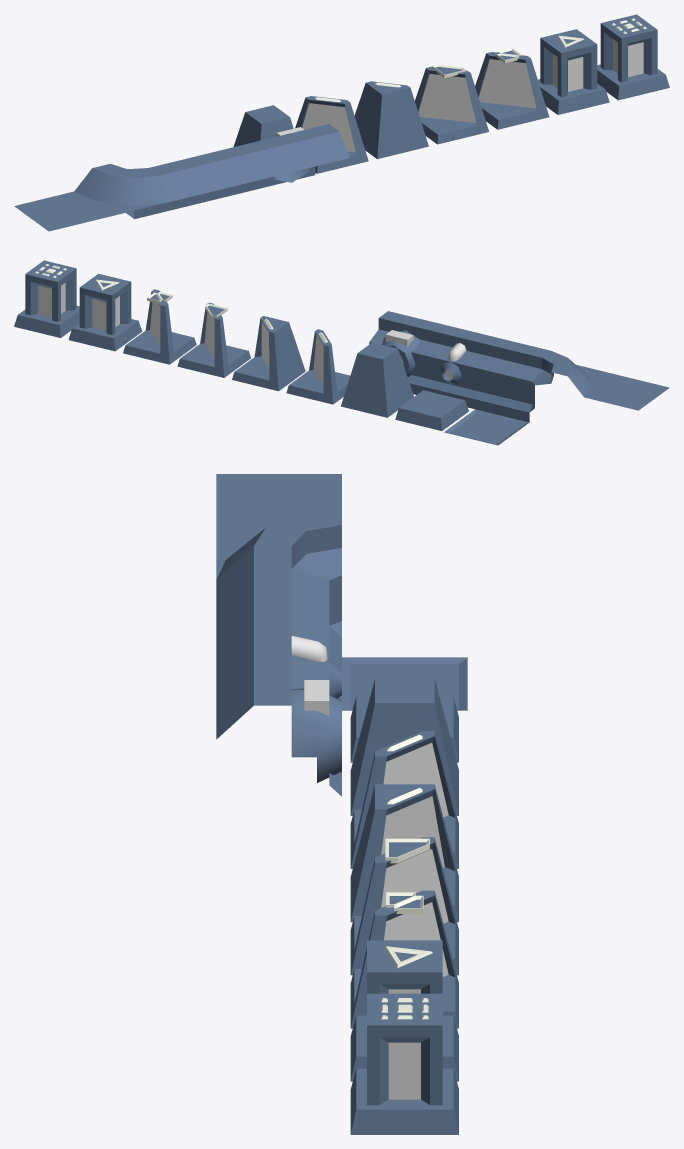
File: Tiles.fbx
3 renders of one model, top to bottom at view 1: azimuth 30°, elevation 25°; view 2: azimuth 150°, elevation 25°; view 3: azimuth 270°, elevation 25°, orthographic. The views are drawn at different scales.
Parts seen in each view (by area): view 1: Diffraction Grid, Prism, One Way Mirror, Two Way Mirror, One Side Mirror, Corner, Receiver, Wall, Laser, Two Side Mirror, Ceiling, Block; view 2: Wall, Laser, Prism, Block, Diffraction Grid, One Side Mirror, Receiver, Two Way Mirror, One Way Mirror, Two Side Mirror, Tile, Ceiling (+2 smaller); view 3: Diffraction Grid, Receiver, Block, Wall, One Side Mirror, Laser, Corner, One Way Mirror, Prism, Ceiling, Two Way Mirror, Two Side Mirror (+2 smaller).
Boxes of the visible parts, box(x1,y1,x2,y2) form: Diffraction Grid: box(597, 14, 669, 100); Prism: box(538, 29, 609, 114); One Way Mirror: box(415, 64, 488, 144); Two Way Mirror: box(475, 48, 549, 129); One Side Mirror: box(354, 81, 428, 159); Corner: box(74, 163, 168, 216); Receiver: box(255, 124, 349, 189); Wall: box(134, 153, 229, 219); Laser: box(194, 138, 289, 204); Two Side Mirror: box(295, 96, 368, 173); Ceiling: box(14, 191, 108, 231); Block: box(233, 105, 293, 146); Wall: box(475, 337, 550, 422); Laser: box(420, 324, 496, 408); Prism: box(68, 273, 142, 351); Block: box(341, 342, 413, 417); Diffraction Grid: box(14, 260, 79, 337); One Side Mirror: box(232, 316, 305, 391); Receiver: box(369, 311, 441, 394); Two Way Mirror: box(123, 289, 196, 364); One Way Mirror: box(177, 302, 250, 377); Two Side Mirror: box(286, 329, 350, 404); Tile: box(395, 390, 468, 430); Ceiling: box(584, 374, 669, 410); Diffraction Grid: box(350, 993, 458, 1134); Receiver: box(216, 652, 341, 796); Block: box(350, 678, 458, 815); Wall: box(216, 546, 341, 670); One Side Mirror: box(350, 784, 458, 922); Laser: box(216, 599, 341, 700); Corner: box(216, 509, 341, 636); One Way Mirror: box(350, 837, 458, 975); Prism: box(350, 940, 458, 1081); Ceiling: box(216, 474, 341, 527); Two Way Mirror: box(350, 890, 458, 1028); Two Side Mirror: box(350, 731, 458, 868).
Size of the model in its own units: 1093 by 100 by 200.
